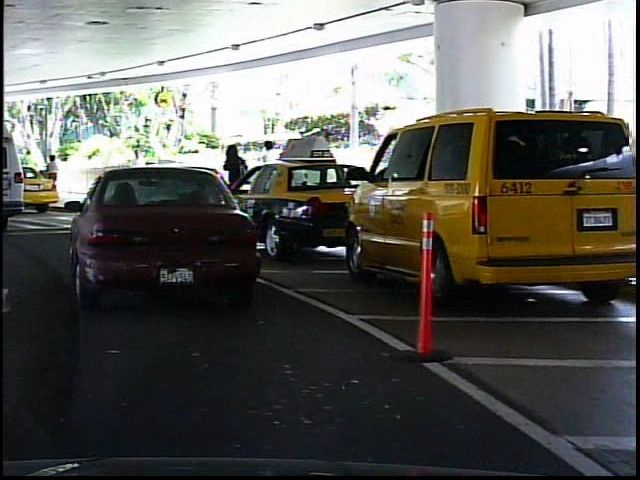person: (219, 139, 252, 214), (257, 137, 283, 212), (123, 143, 149, 204), (42, 151, 64, 198)
